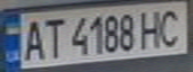1: (87, 11, 106, 55)
4: (66, 12, 90, 56)
8: (103, 11, 124, 53), (118, 10, 139, 52)
A: (18, 16, 48, 62)
C: (154, 5, 187, 48)
H: (136, 7, 166, 50)
T: (39, 15, 66, 61)
